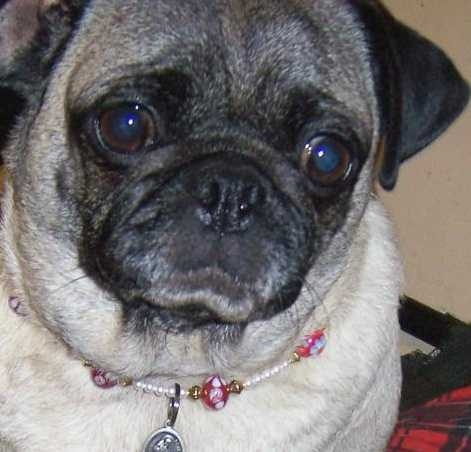Dog: (17, 0, 468, 410)
